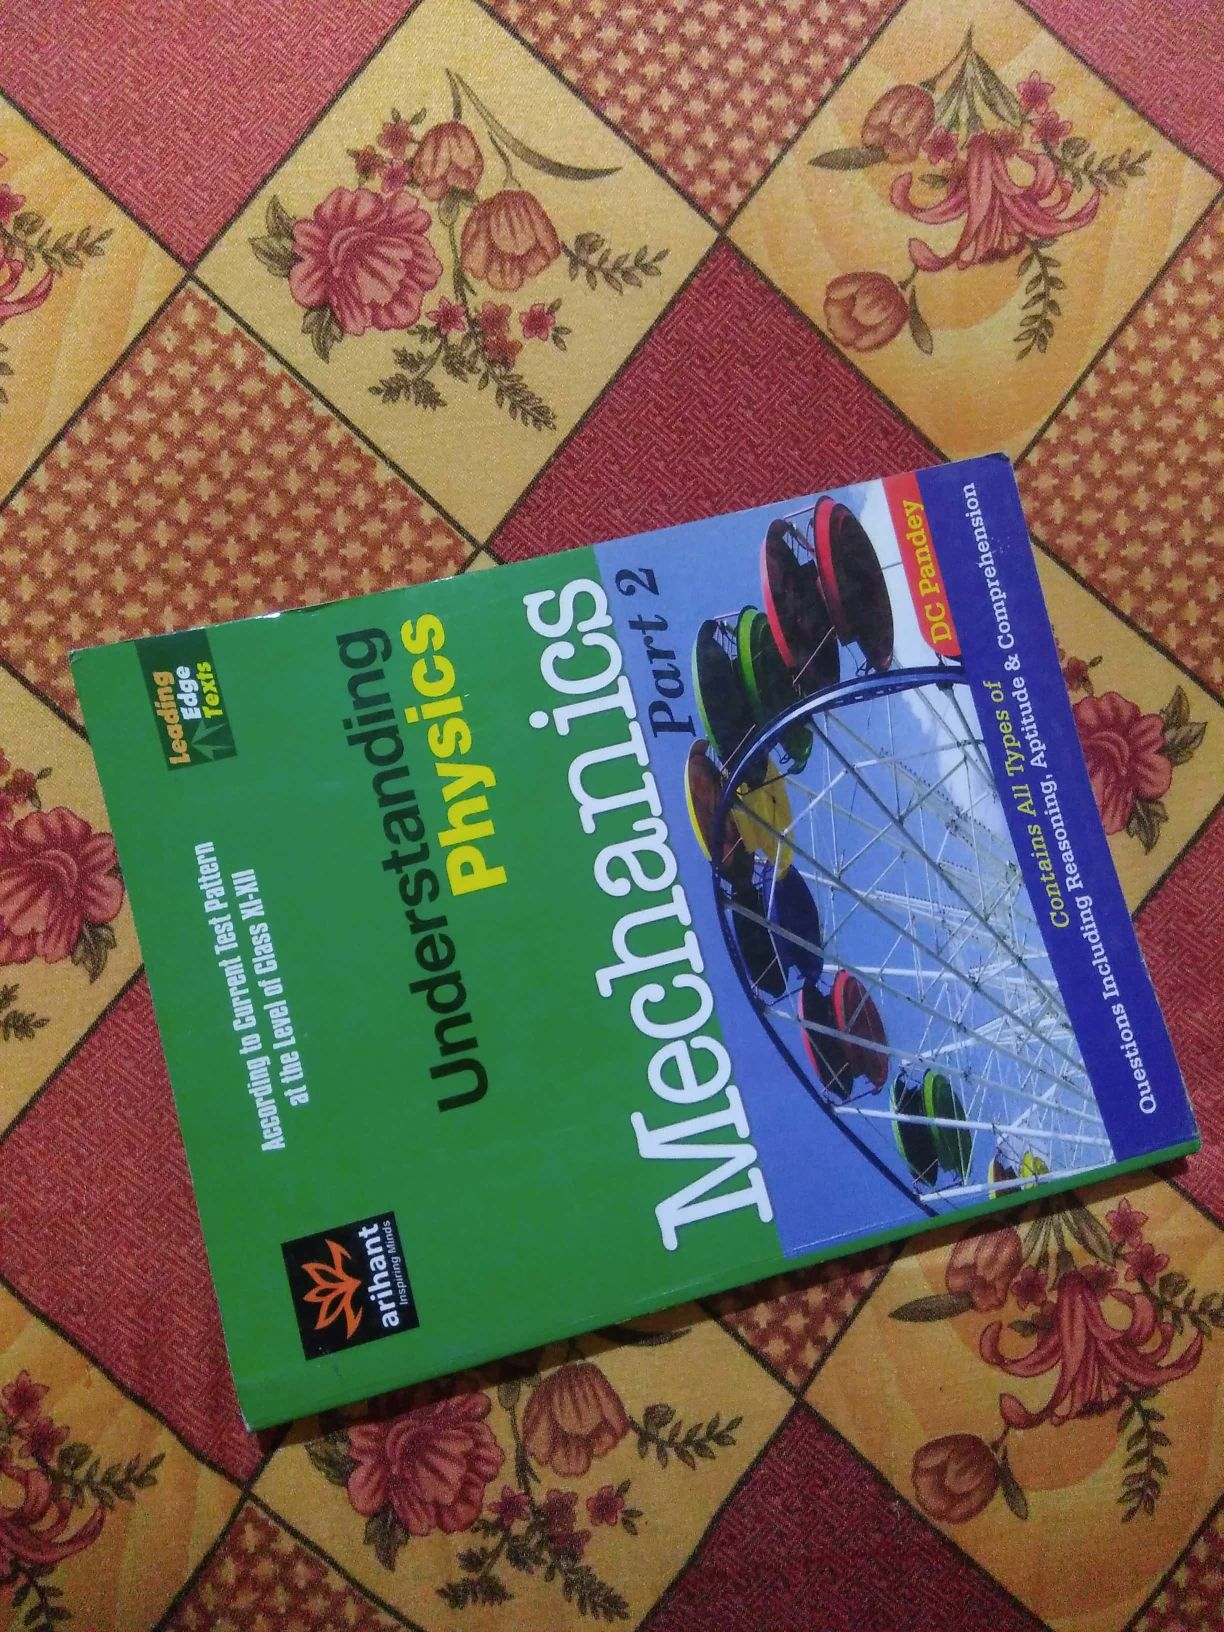mechanics: (33, 520, 1188, 1402)
